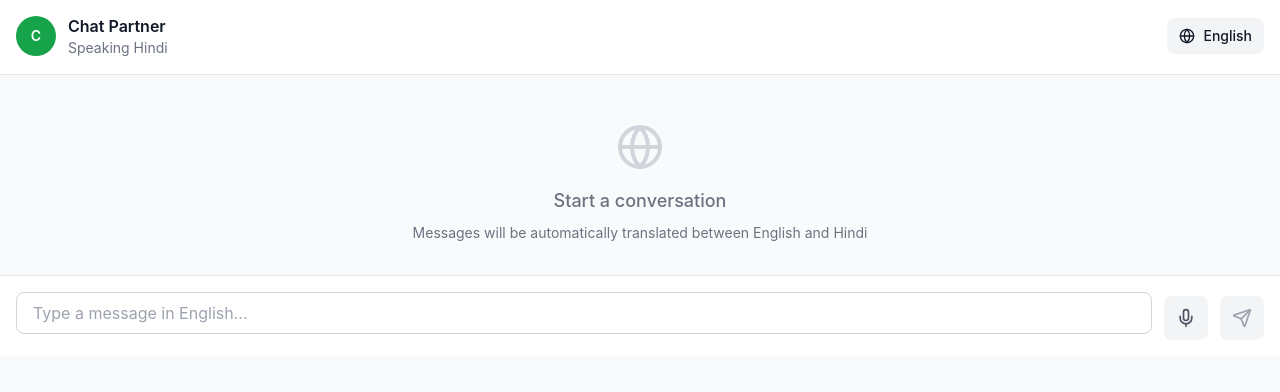
Test case: MultilingualChat › handles translation errors gracefully
The image size is (1280, 392).
Type "Hello" into the text box with placeholder "Type a message in English..." at point(584, 313), box [16, 292, 1152, 334]
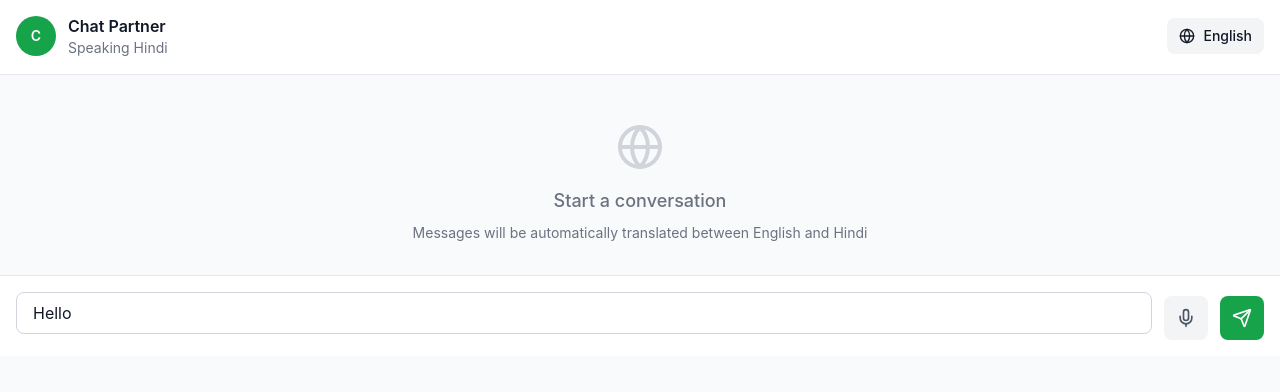
Click the button titled "Send message" at point(1242, 318), box [1220, 296, 1264, 340]
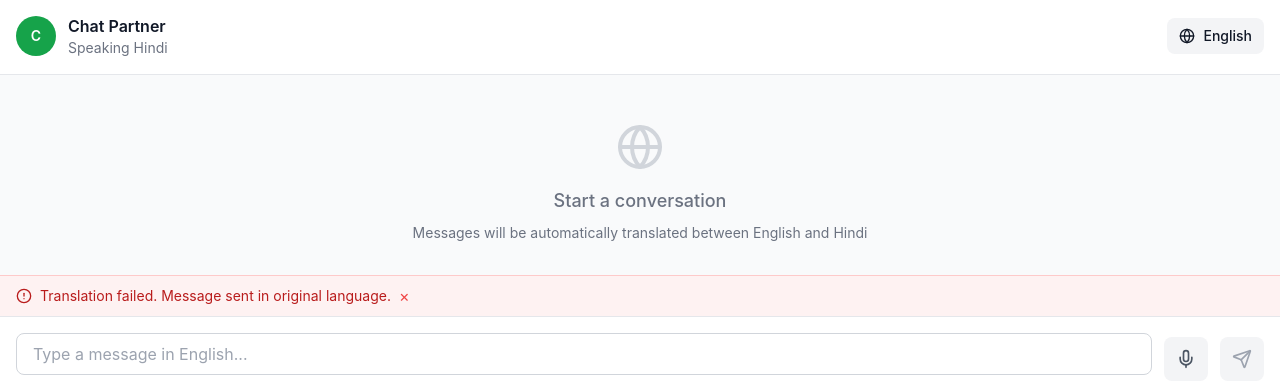
Result: the text "Translation failed. Message sent in original language." is shown at [40, 286, 391, 306]
